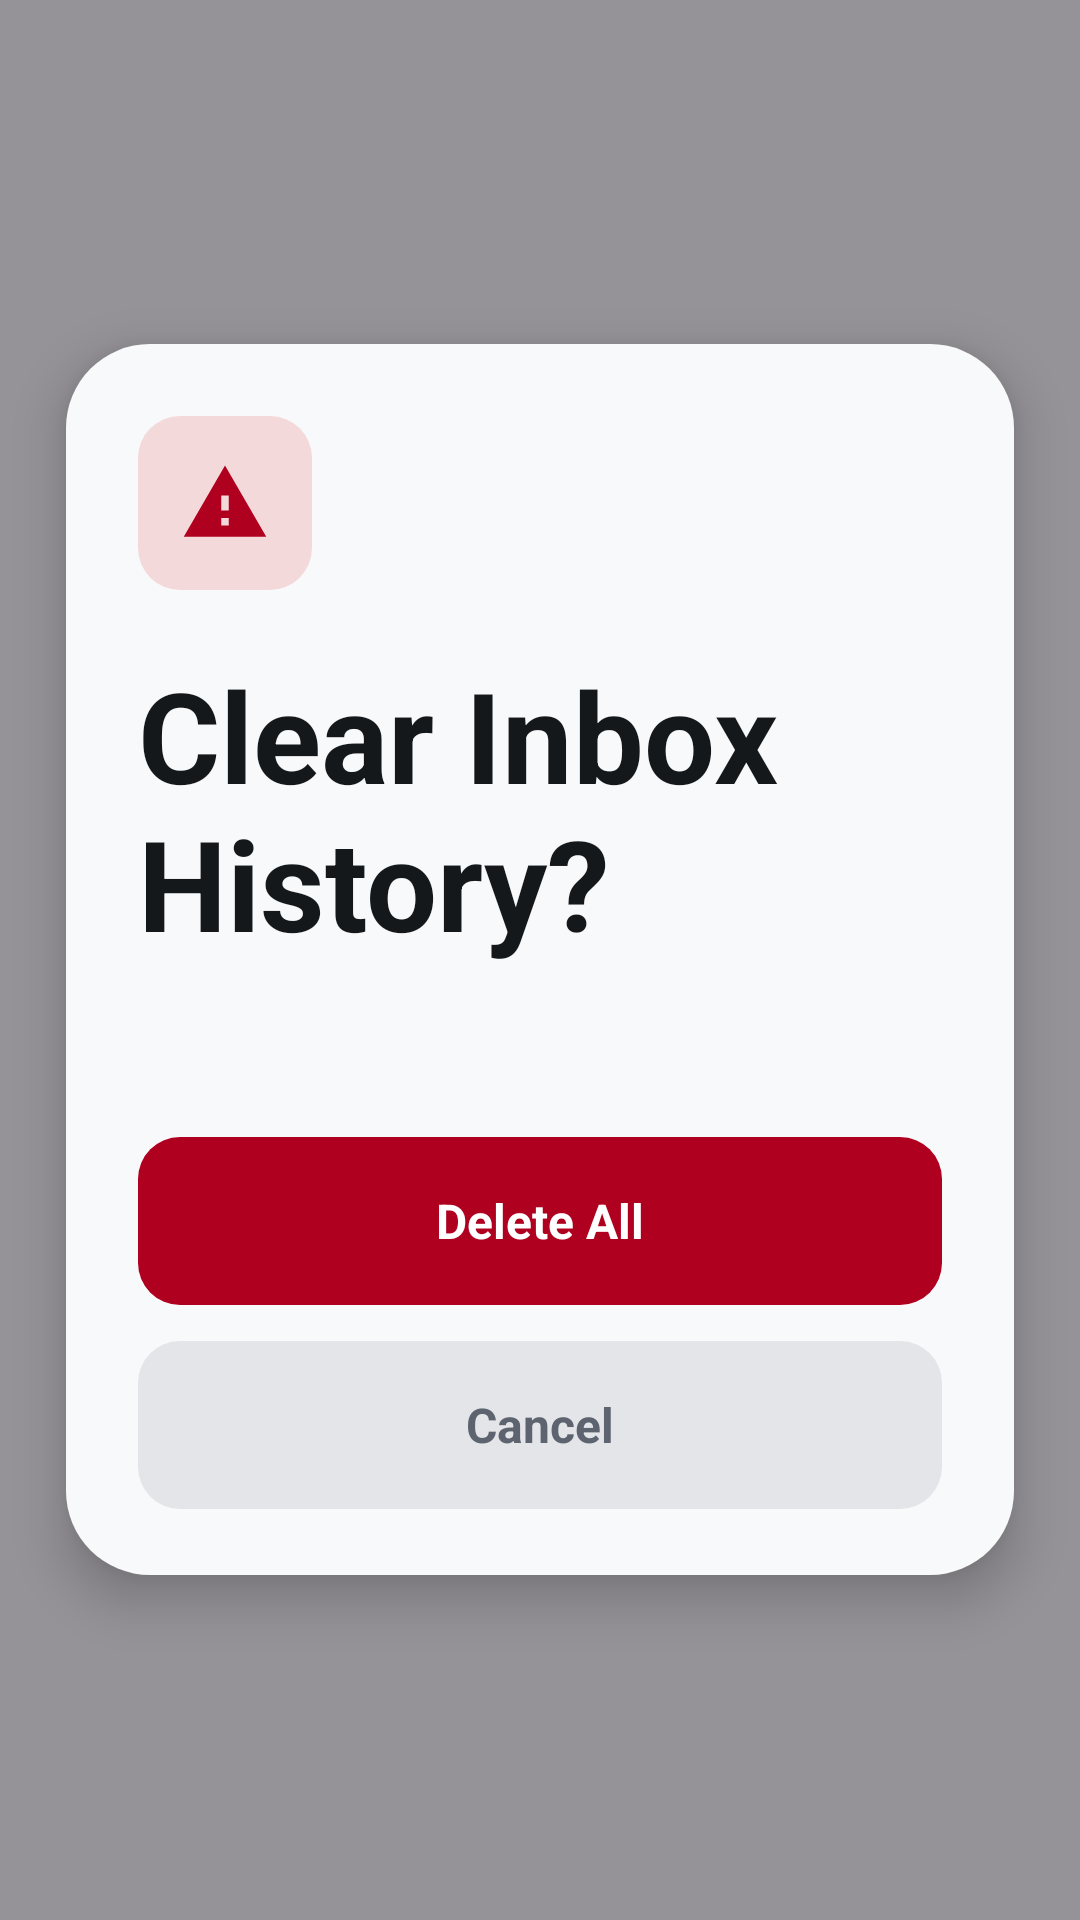

Where icons sit on this 1080×1920 app screen, as (x1, y1, x2, y2):
delete modal warning: (184, 466, 266, 537)
